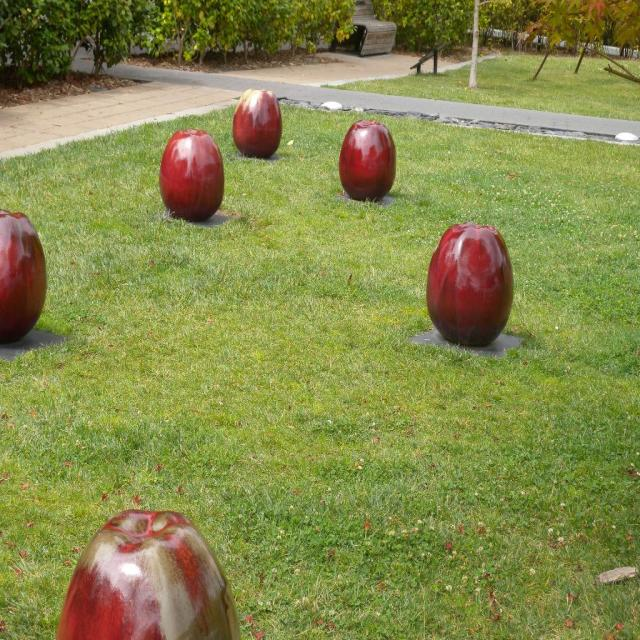Healty Apple: (57, 507, 248, 640), (427, 222, 517, 349), (160, 126, 230, 230), (0, 206, 44, 349), (340, 122, 396, 203), (231, 86, 284, 156)
